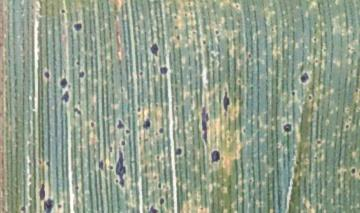tarspot: (114, 149, 126, 188), (200, 107, 209, 151), (222, 91, 230, 113), (43, 199, 54, 213), (298, 71, 309, 84), (210, 150, 220, 163), (59, 91, 69, 103), (150, 44, 158, 56), (39, 184, 45, 200), (59, 78, 67, 88), (142, 118, 150, 128), (148, 205, 158, 213), (73, 23, 82, 31), (116, 120, 124, 129), (73, 108, 81, 116), (43, 71, 50, 80), (98, 160, 104, 170), (159, 67, 166, 75), (174, 148, 181, 156), (283, 124, 290, 132), (20, 206, 26, 213), (214, 29, 220, 36), (159, 198, 164, 206), (350, 167, 355, 175), (77, 72, 83, 78), (173, 25, 179, 31), (290, 91, 296, 97), (158, 128, 163, 135), (44, 161, 49, 167), (175, 35, 180, 41), (125, 129, 131, 134), (157, 183, 162, 189), (183, 13, 189, 18), (108, 146, 112, 153), (75, 61, 80, 66), (344, 124, 349, 129), (226, 137, 231, 142), (90, 122, 94, 128), (202, 39, 206, 45), (186, 2, 192, 6), (307, 95, 311, 101), (315, 140, 321, 144), (241, 129, 247, 133), (248, 179, 254, 183), (60, 9, 64, 14), (57, 204, 61, 209), (139, 71, 143, 76), (121, 141, 125, 146), (108, 165, 113, 169), (234, 5, 239, 9), (312, 37, 316, 42), (74, 185, 78, 189), (114, 179, 118, 183), (247, 54, 251, 58), (137, 107, 140, 112), (156, 155, 159, 159), (173, 16, 177, 19)
